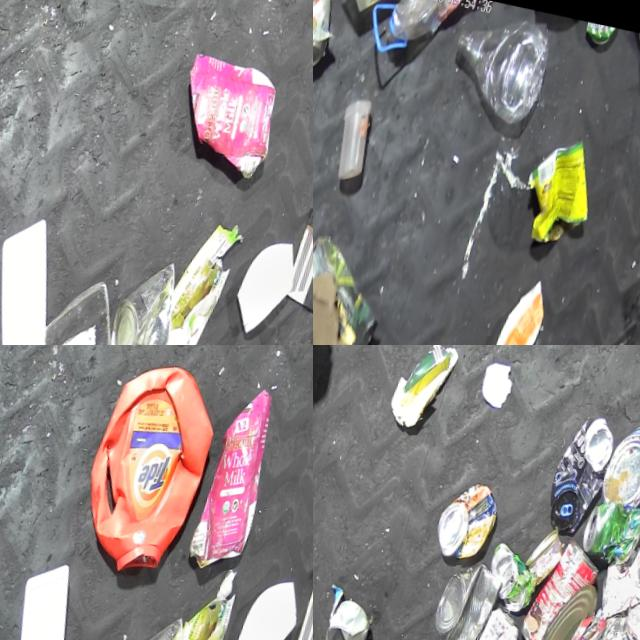can: (546, 408, 629, 535), (524, 531, 615, 640), (110, 249, 199, 345), (432, 554, 516, 640), (437, 475, 512, 563), (487, 539, 553, 613), (536, 575, 610, 640), (113, 597, 210, 640), (583, 492, 640, 564), (601, 530, 640, 623), (603, 415, 640, 506), (528, 523, 577, 587), (464, 600, 536, 640), (313, 0, 344, 88), (328, 596, 386, 640)
milk_jug: (0, 209, 89, 345)
non_white_jug: (63, 351, 241, 598)
plastic_bottle: (358, 0, 471, 72)
